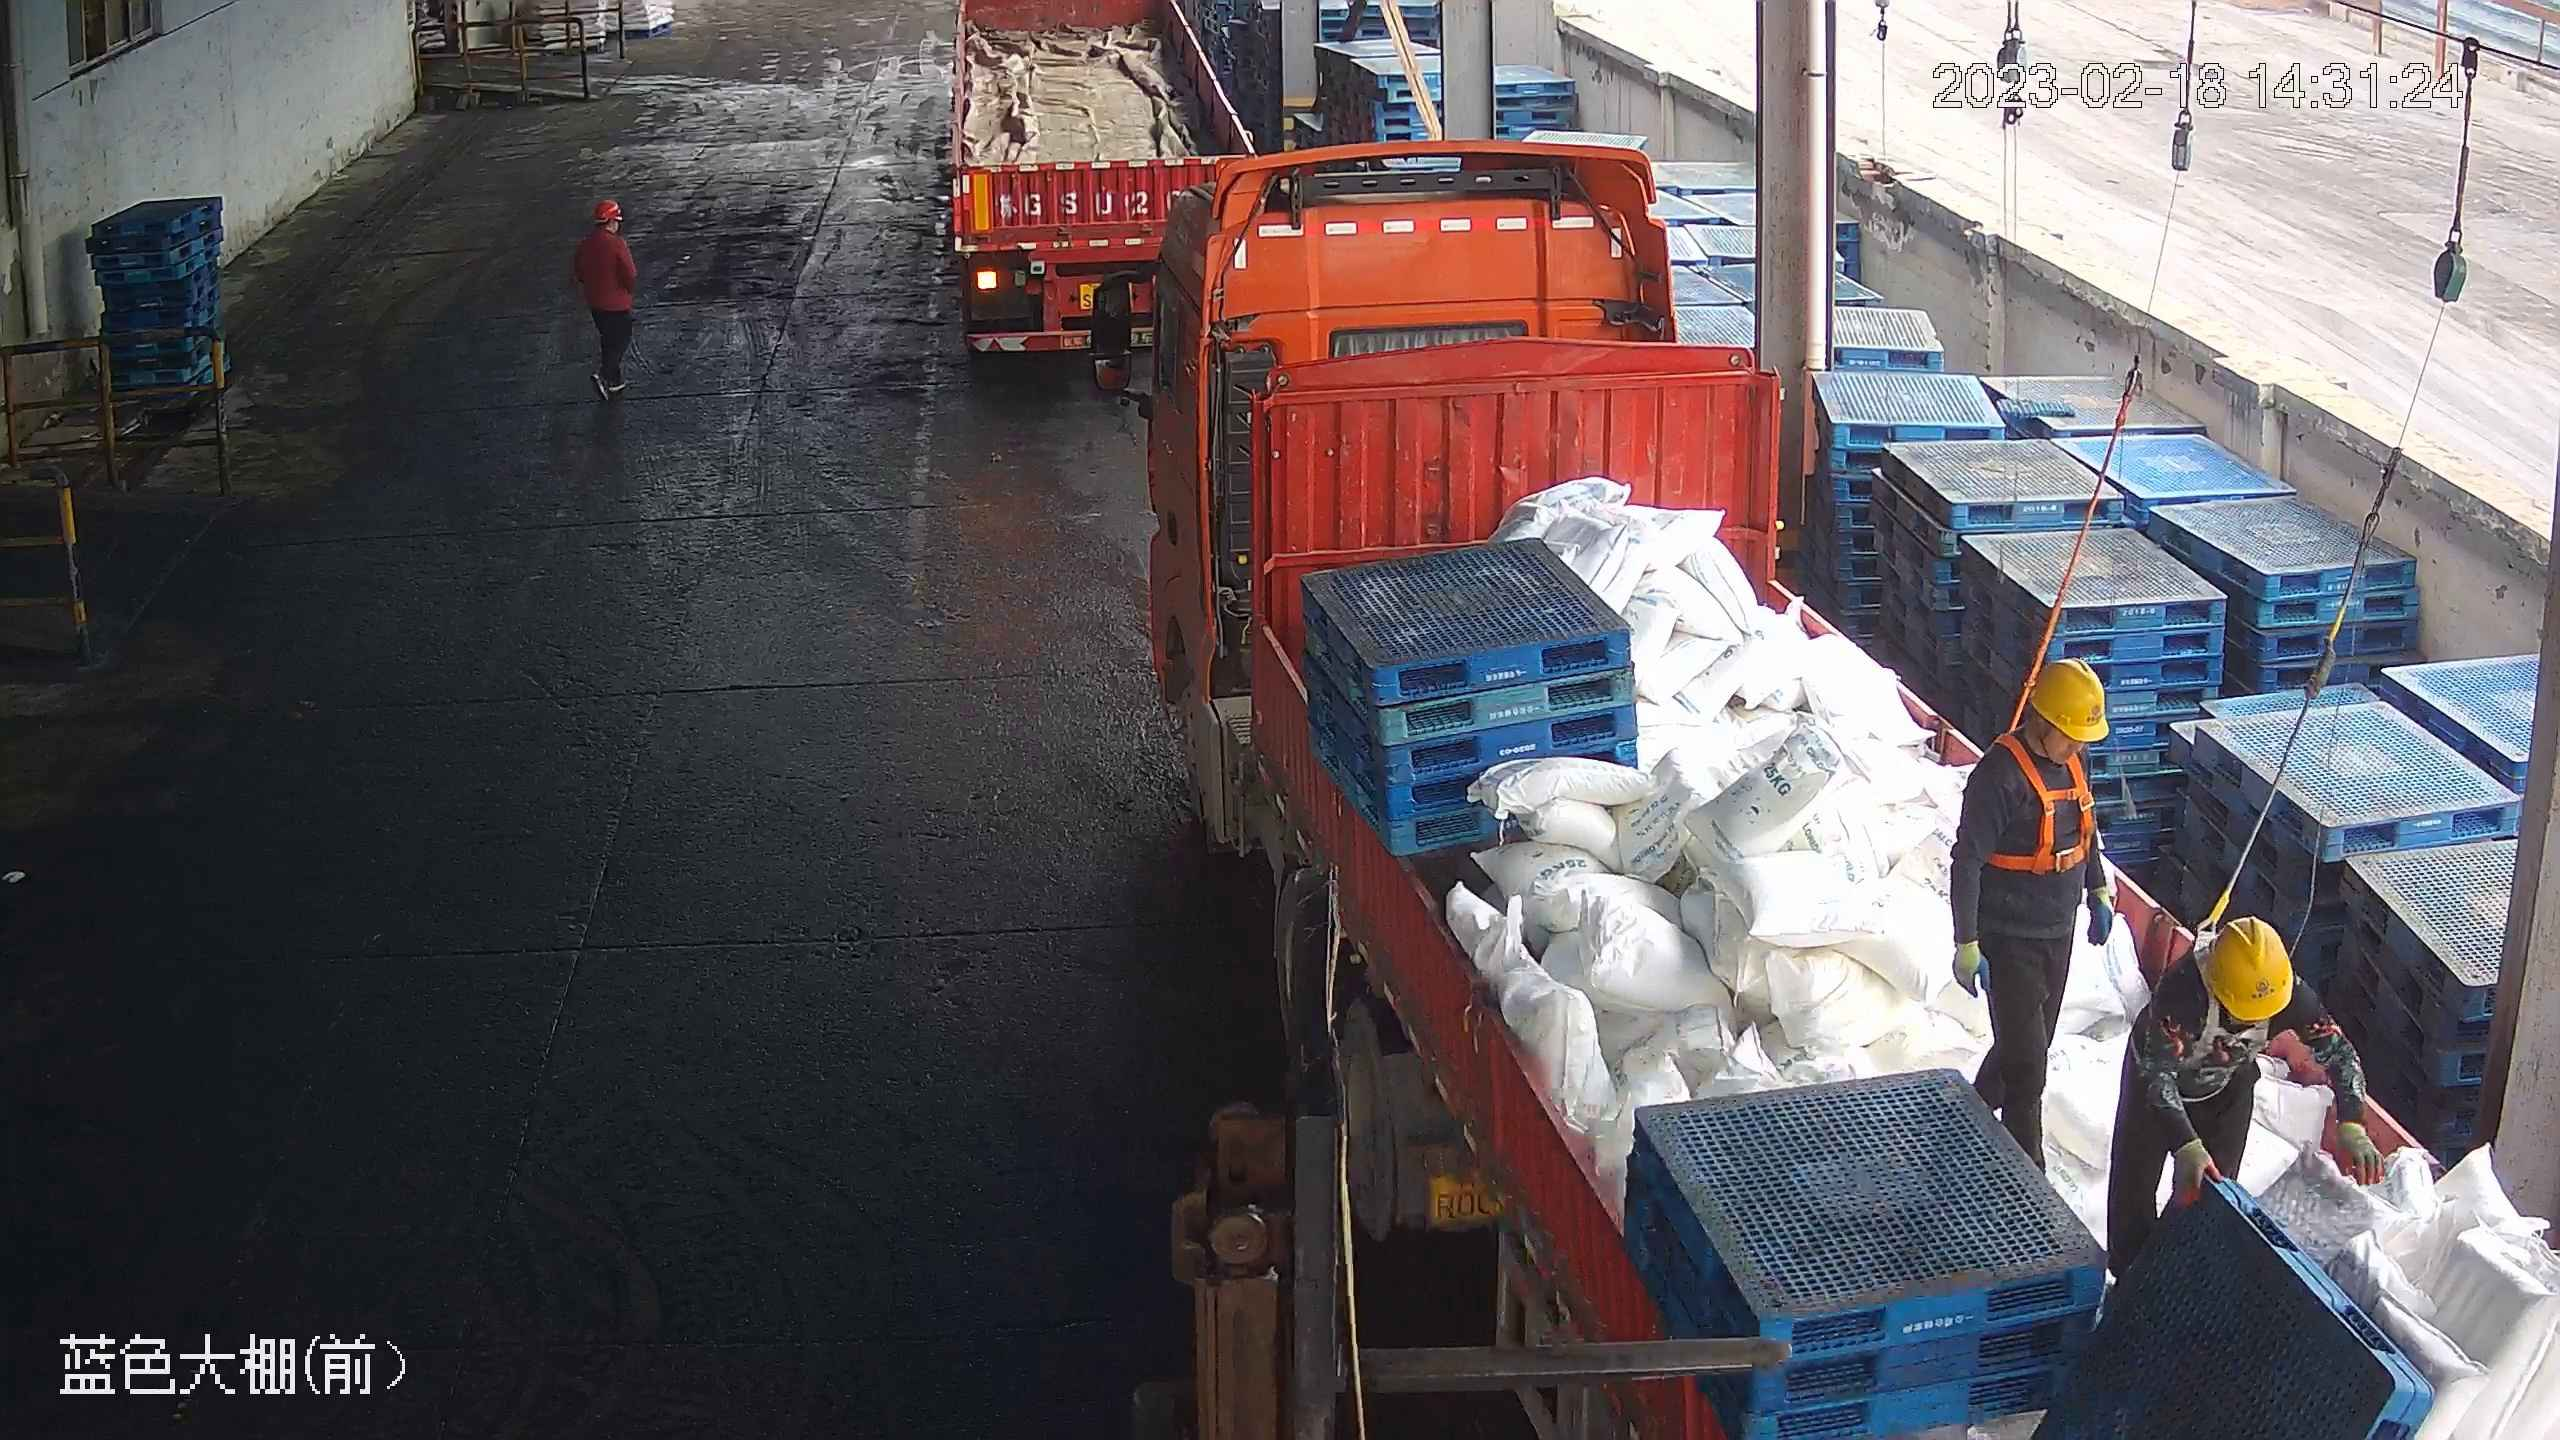belt: (1986, 724, 2101, 876), (2171, 941, 2272, 1069)
head: (1962, 653, 2116, 820), (2146, 916, 2312, 1065), (576, 198, 633, 256)
helmet: (2203, 916, 2293, 1022), (2023, 656, 2109, 740), (590, 197, 620, 220)
people: (2105, 918, 2390, 1267), (1943, 657, 2118, 1170), (570, 197, 643, 396)
truck: (1105, 143, 2555, 1440), (935, 4, 1268, 366)
